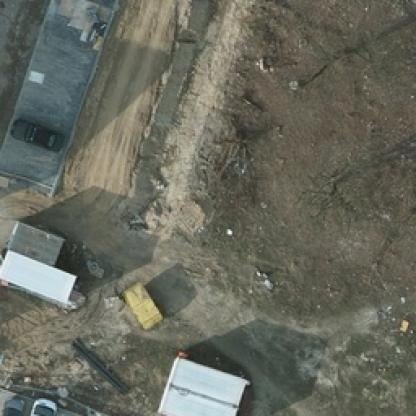car: (8, 113, 70, 152)
